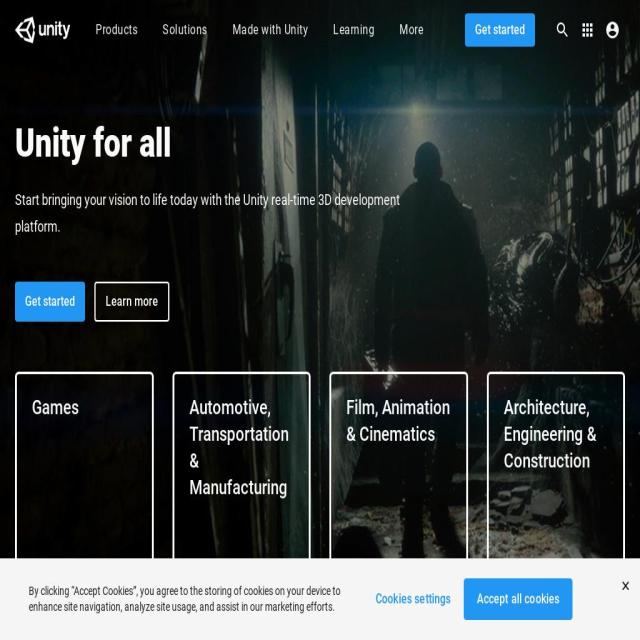button: (15, 372, 154, 574), (329, 372, 468, 574), (486, 372, 625, 574), (172, 372, 310, 574), (463, 578, 573, 620), (15, 0, 71, 60), (369, 579, 451, 619), (94, 282, 170, 322), (386, 0, 436, 60), (15, 282, 85, 322), (465, 13, 535, 47), (550, 0, 575, 60), (575, 0, 600, 60), (600, 0, 625, 60)
heading: (15, 120, 416, 167)
image: (15, 17, 71, 43), (555, 20, 570, 40), (580, 20, 595, 40), (605, 20, 620, 40), (618, 578, 634, 594)
link: (232, 0, 308, 60), (162, 0, 208, 60), (96, 0, 138, 60), (334, 0, 374, 60)
text: (15, 187, 416, 240), (29, 583, 358, 615), (189, 396, 289, 499), (503, 396, 596, 472), (346, 396, 450, 446), (32, 396, 79, 419)
